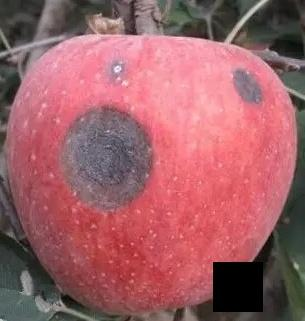rotten apple: (1, 32, 298, 316)
